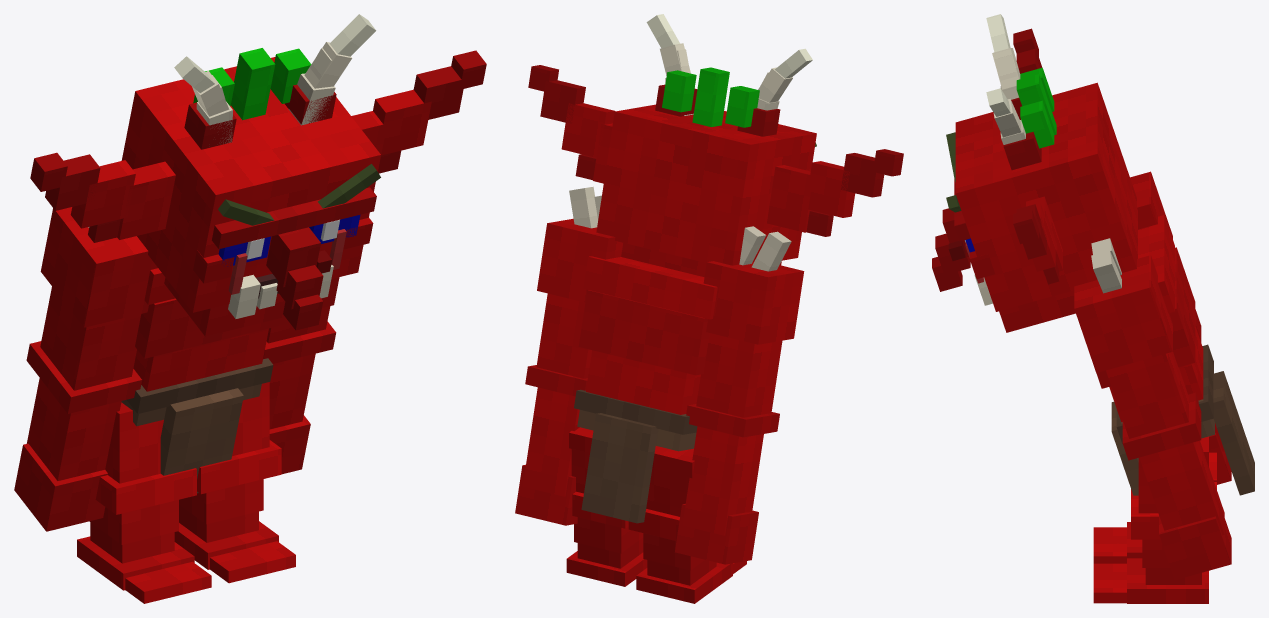
Rendered from goblin_s2_evo2.glb.
3 views of the same model, side by side, from view 1: azimuth 30°, elevation 25°; view 2: azimuth 150°, elevation 25°; view 3: azimuth 270°, elevation 25° (orthographic). The views are drawn at different scales.
Parts seen in each view (by area): view 1: Head, ArmR, Torso, LegR, LegL, ArmL; view 2: Head, Torso, ArmR, ArmL, LegR, LegL; view 3: Head, ArmL, Torso, LegL, ArmR, LegR.
Boxes of the visible parts, x1,y1,x2,y2 form: Head: (30, 14, 486, 336); ArmR: (14, 207, 157, 531); Torso: (121, 268, 287, 493); LegR: (77, 402, 211, 603); LegL: (174, 382, 295, 583); ArmL: (263, 306, 336, 474); Head: (528, 14, 903, 277); Torso: (574, 256, 717, 523); ArmR: (675, 226, 804, 564); ArmL: (515, 186, 622, 525); LegR: (628, 446, 746, 603); LegL: (566, 427, 647, 586); Head: (932, 14, 1137, 332); ArmL: (1074, 238, 1231, 579); Torso: (1096, 215, 1254, 495); LegL: (1093, 436, 1216, 603); ArmR: (1130, 171, 1231, 484); LegR: (1093, 452, 1216, 563).
Bounding box in the file's own units: 1.09 × 1.39 × 0.7835.
Materials: 27 (27 with a texture image).
